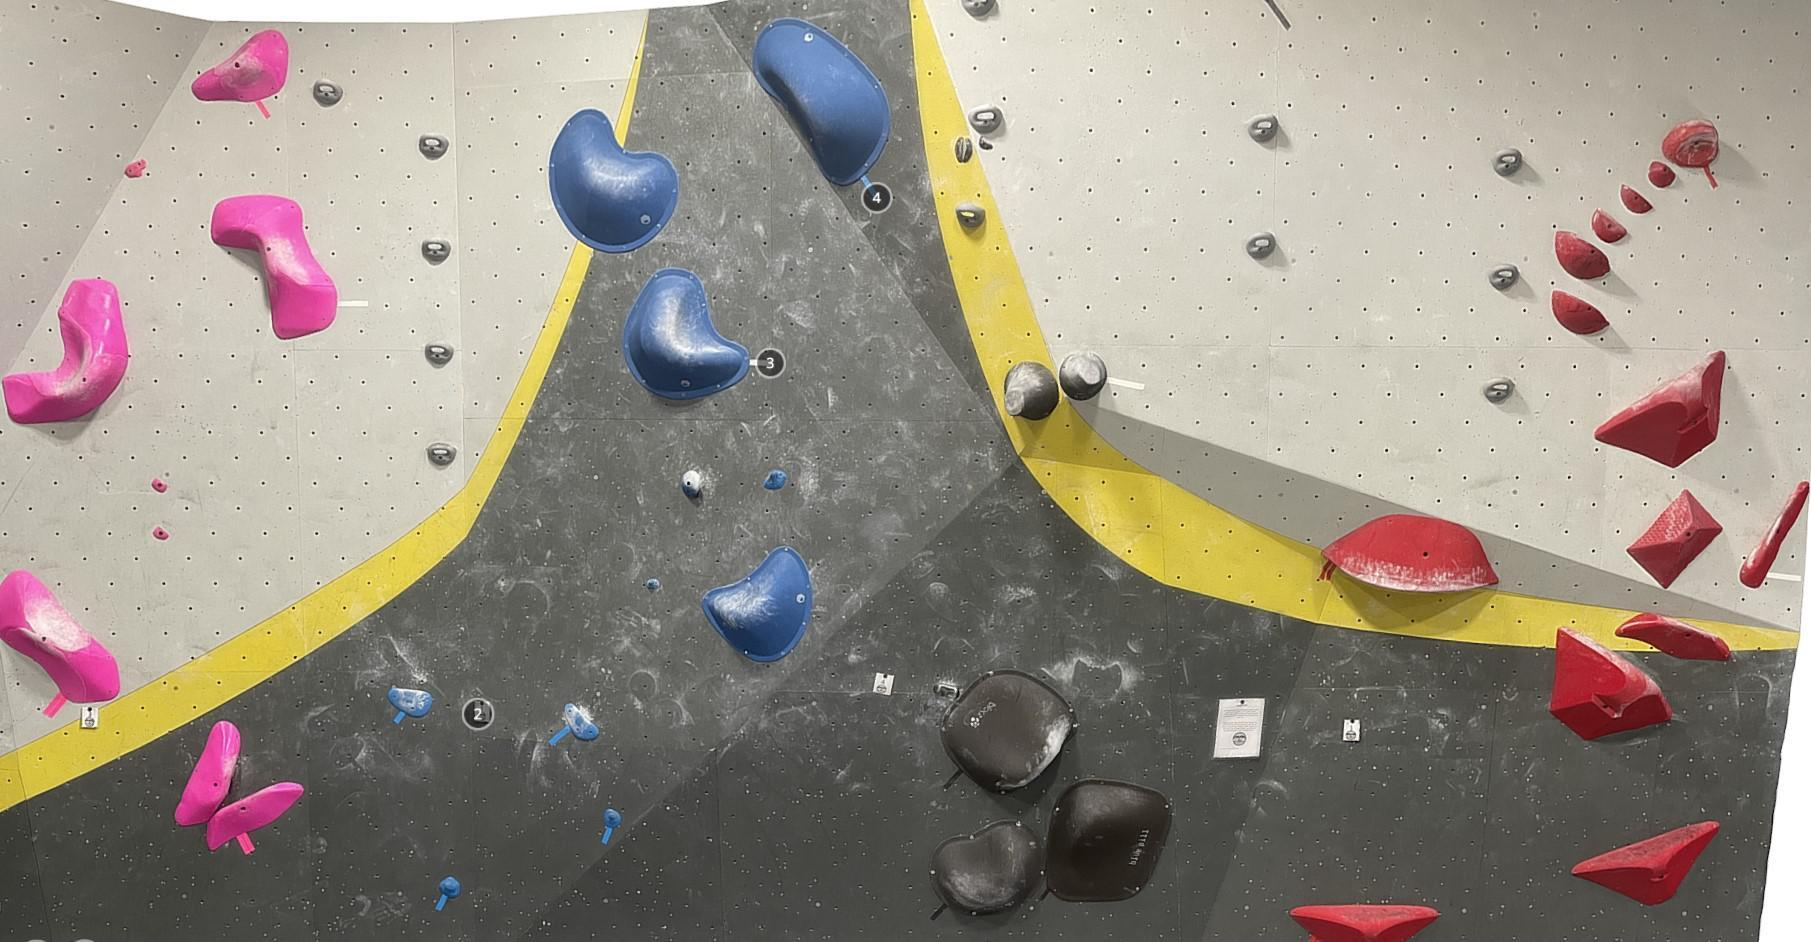hold: (752, 18, 890, 186), (549, 109, 678, 253), (2, 278, 128, 423), (212, 195, 338, 339), (939, 668, 1078, 793), (623, 268, 750, 399), (0, 569, 120, 702), (1046, 778, 1171, 902), (1594, 349, 1726, 467), (1321, 514, 1500, 593), (1549, 626, 1672, 739), (1570, 820, 1720, 905), (703, 545, 812, 662), (928, 819, 1047, 916), (1627, 489, 1722, 588), (1740, 481, 1810, 588), (206, 780, 305, 851), (175, 719, 241, 826), (192, 30, 287, 102), (1616, 612, 1731, 662), (1290, 905, 1440, 942), (1004, 361, 1059, 421), (1661, 119, 1719, 168), (1555, 230, 1610, 279), (1552, 290, 1610, 334), (1059, 351, 1107, 400), (564, 702, 600, 741), (1591, 207, 1628, 243), (388, 688, 432, 718), (1621, 183, 1654, 213), (968, 104, 1003, 133), (1247, 113, 1278, 143), (1490, 147, 1522, 176), (1246, 231, 1276, 259), (1483, 376, 1514, 403), (1488, 264, 1519, 290), (313, 78, 343, 104), (1648, 161, 1676, 188), (425, 340, 454, 366), (419, 133, 448, 157), (422, 237, 450, 261), (428, 442, 456, 466), (956, 203, 985, 227), (437, 875, 461, 900), (682, 470, 701, 497), (962, 0, 995, 16), (955, 137, 973, 163), (763, 470, 787, 489), (932, 683, 959, 699), (125, 158, 146, 177), (152, 477, 168, 493), (153, 526, 169, 541), (979, 137, 993, 150), (646, 576, 660, 588)
